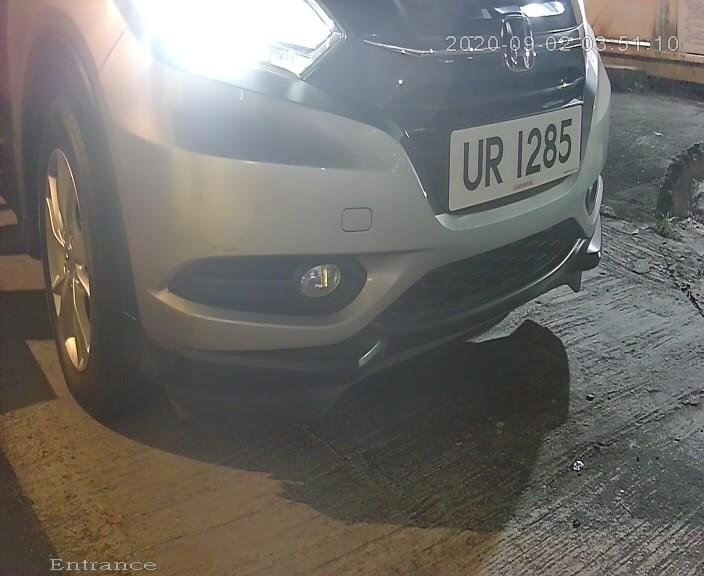License Plate: (434, 88, 588, 232)
